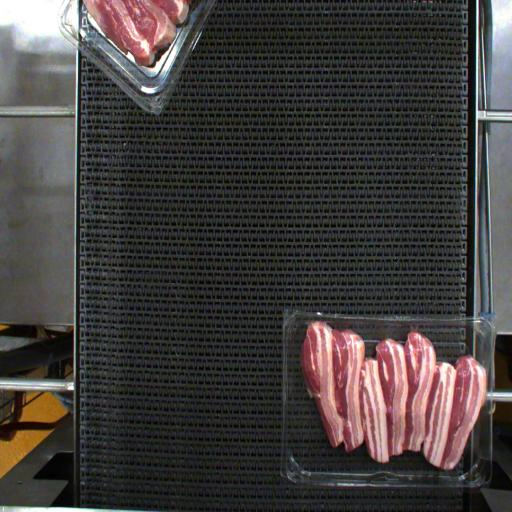packaging-error: (303, 306, 340, 332), (409, 315, 426, 340)
